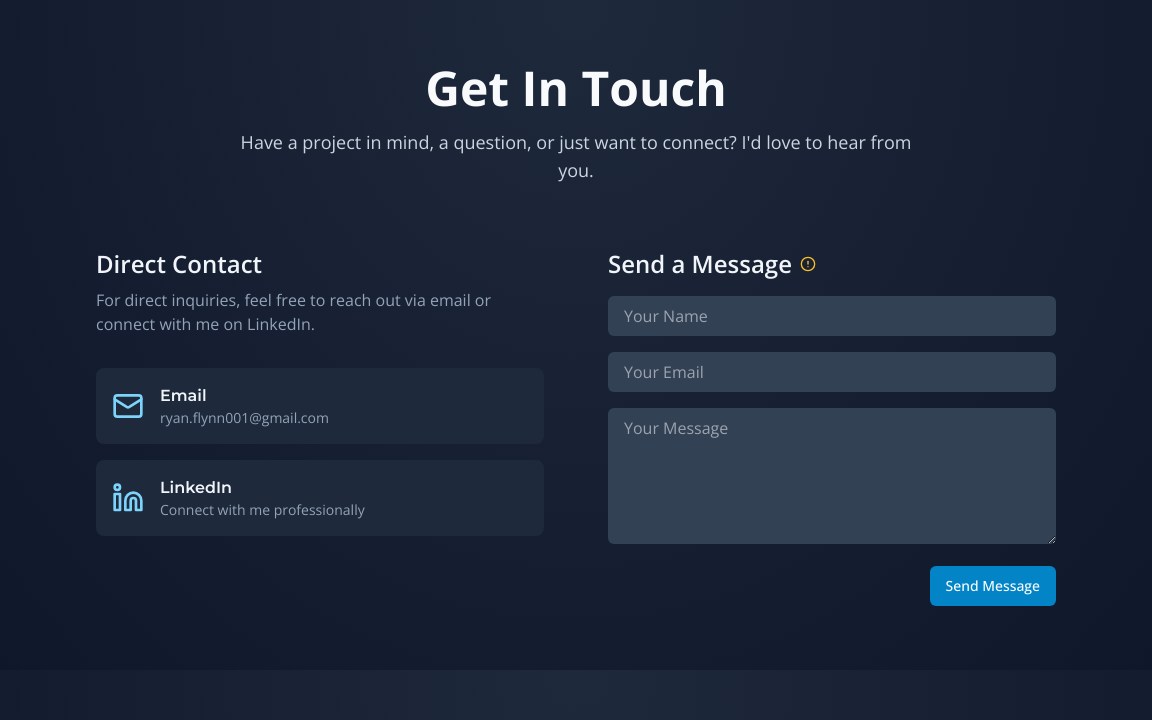
Test: ContactPageClient › displays warning when email service is unavailable
This screenshot has width=1152, height=720.
Type "John Doe" into the field with placeholder "Your Name" at (832, 316), box [608,296,1056,336]
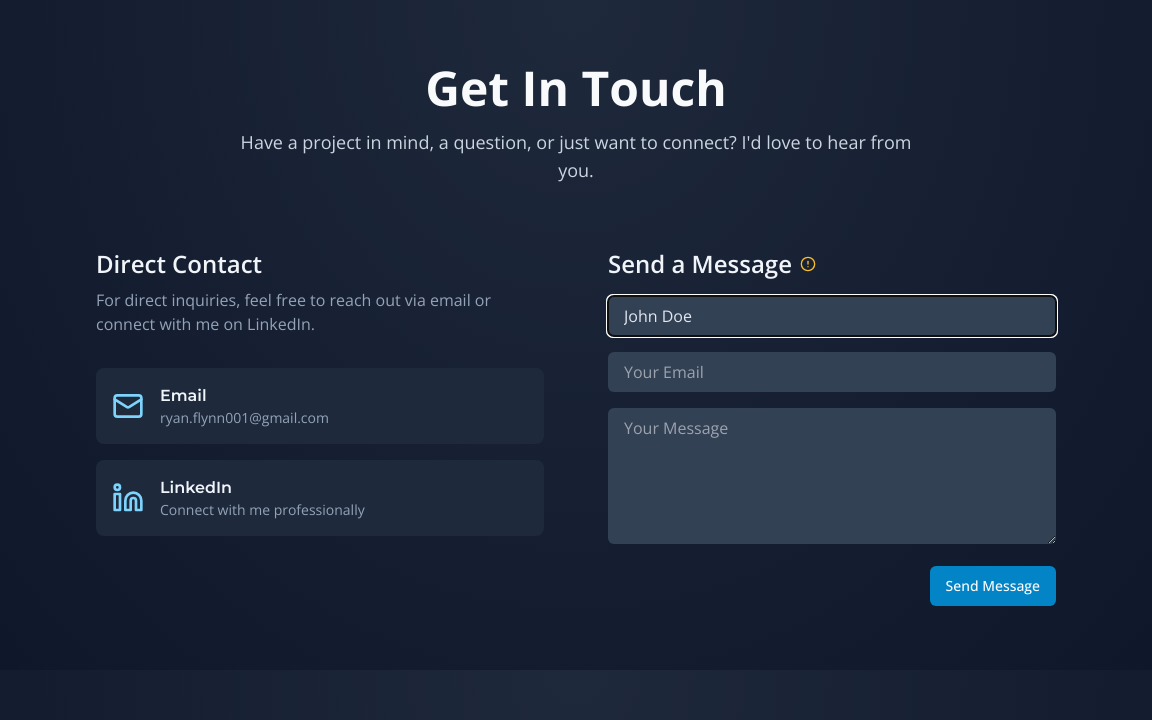
Type "john@example.com" into the field with placeholder "Your Email" at (832, 372), box [608,352,1056,392]
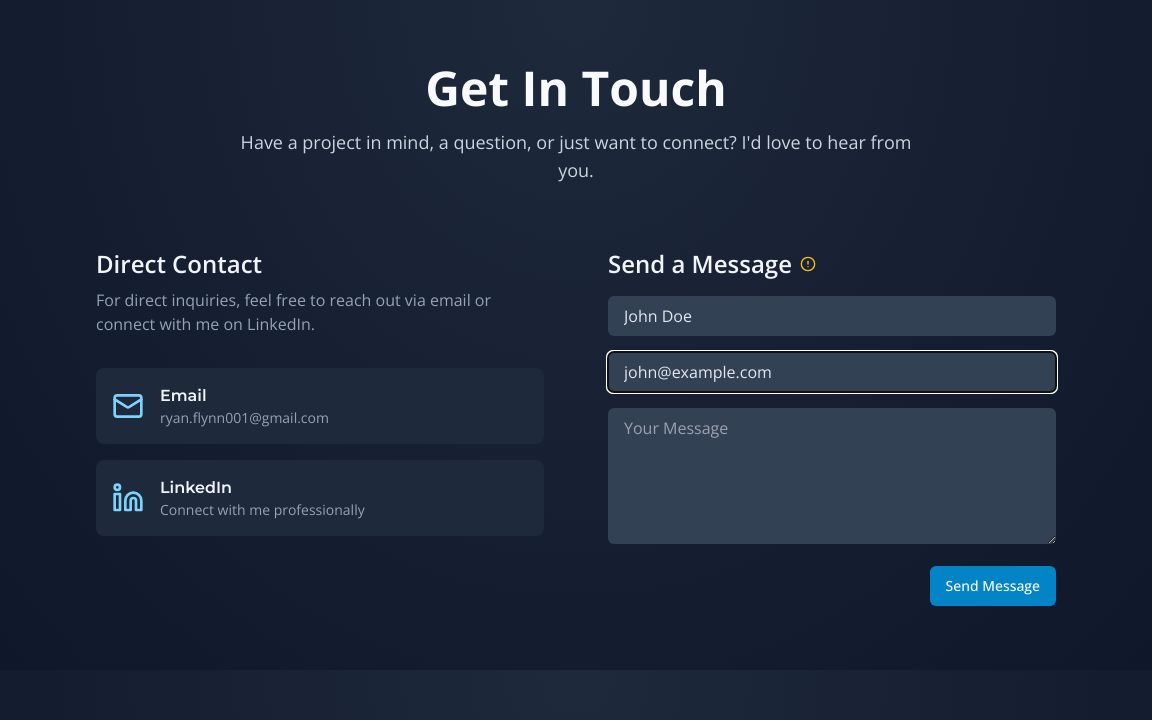
Type "Test message" into the text box with placeholder "Your Message" at (832, 476), box [608,408,1056,544]
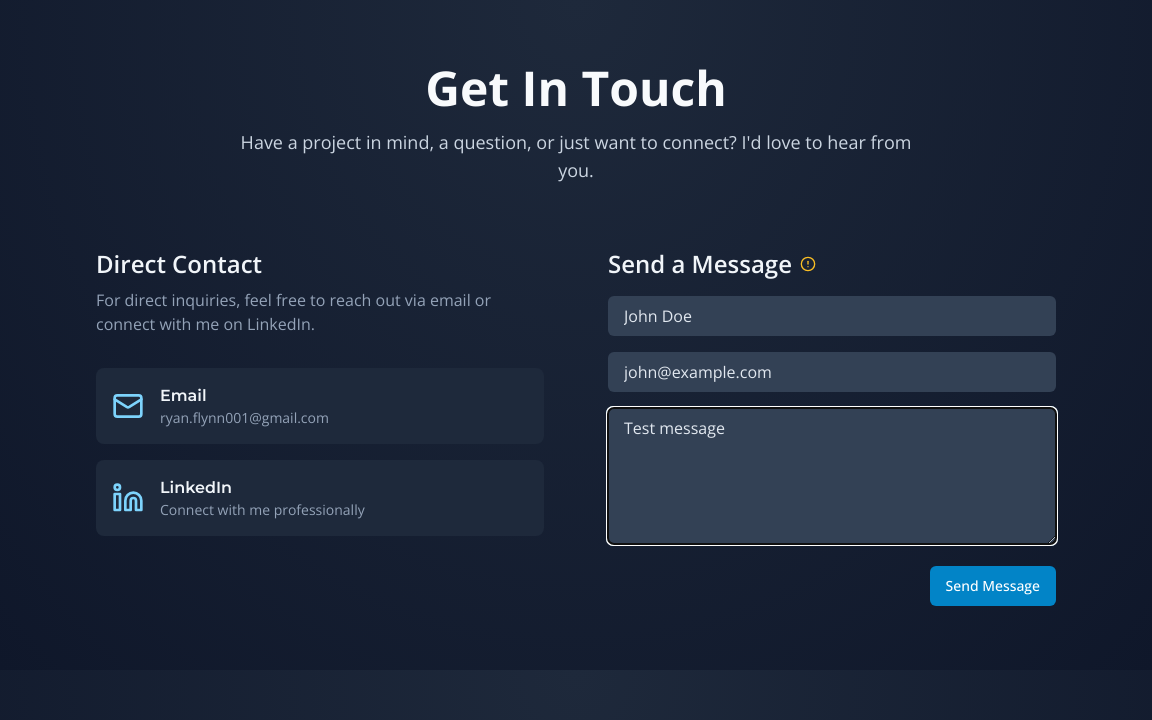
Click the button "Send Message" at (993, 586), box [930,566,1056,606]
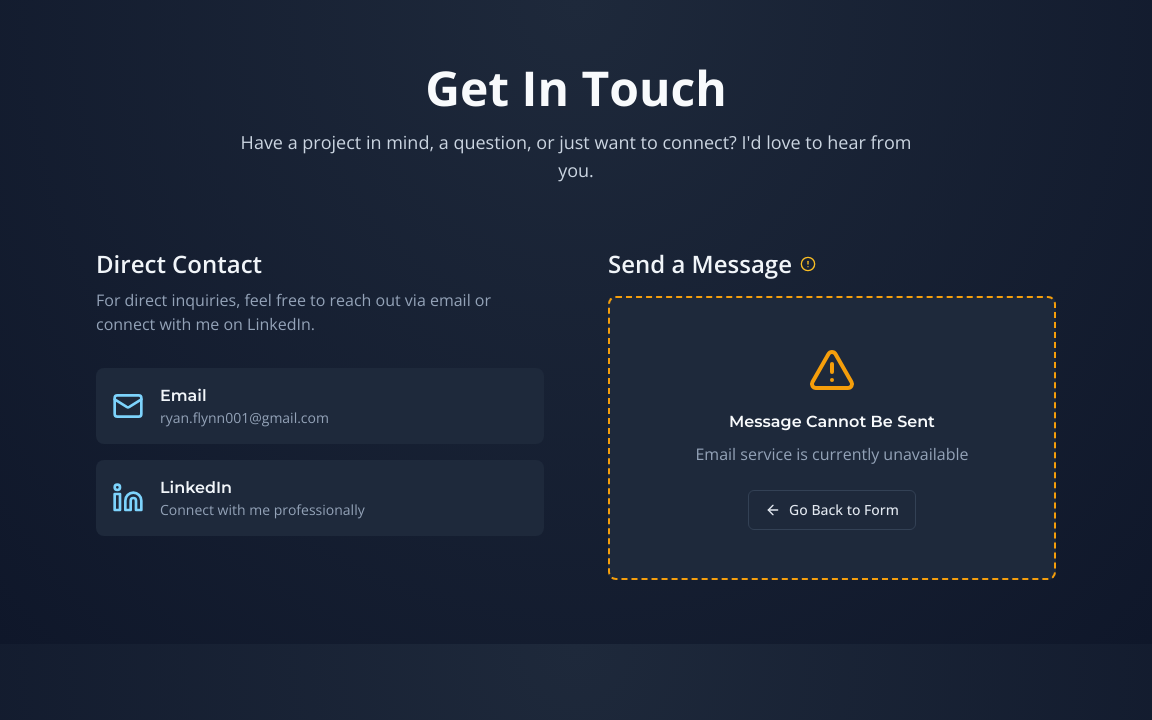
Now the heading "Message Cannot Be Sent" is shown, box [729,410,935,434]
Now the text "Email service is currently unavailable" is shown, box [696,442,969,466]
